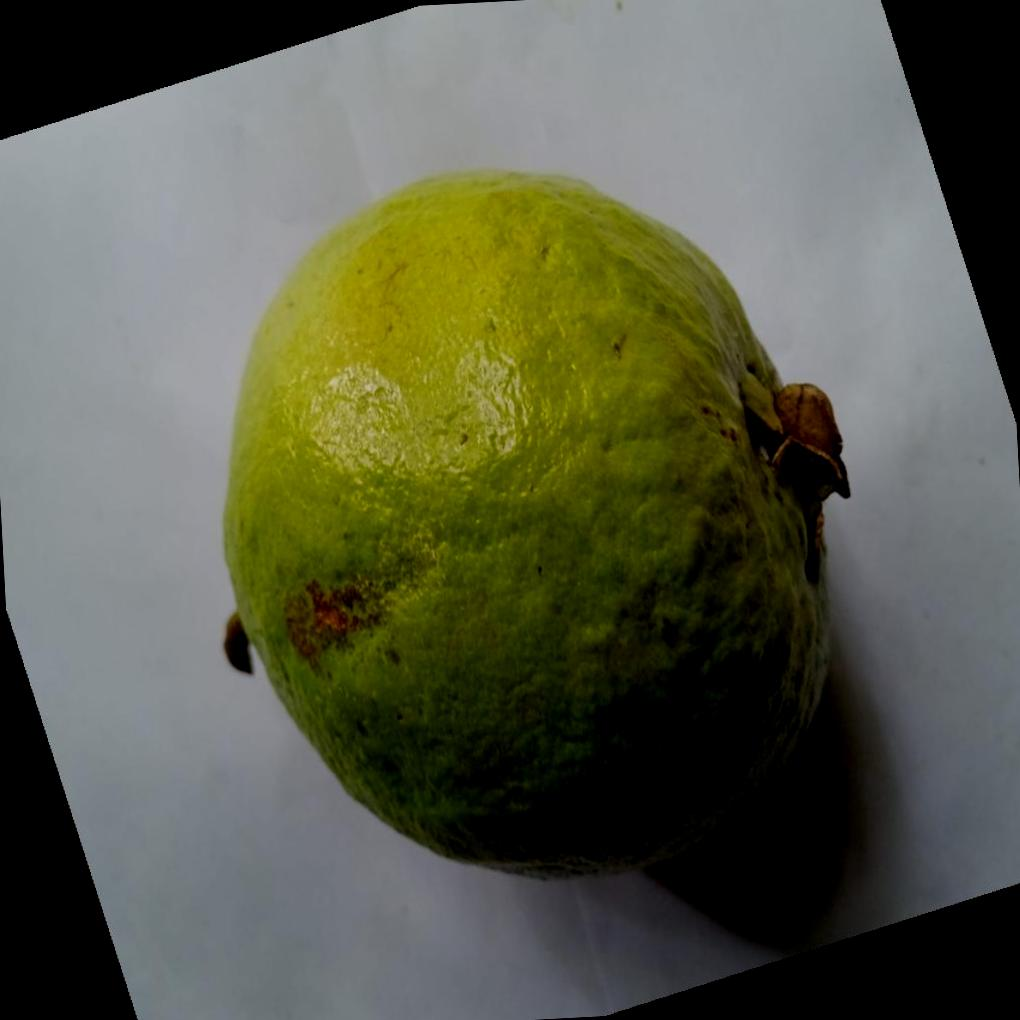FreshGuava: (218, 163, 850, 879)
